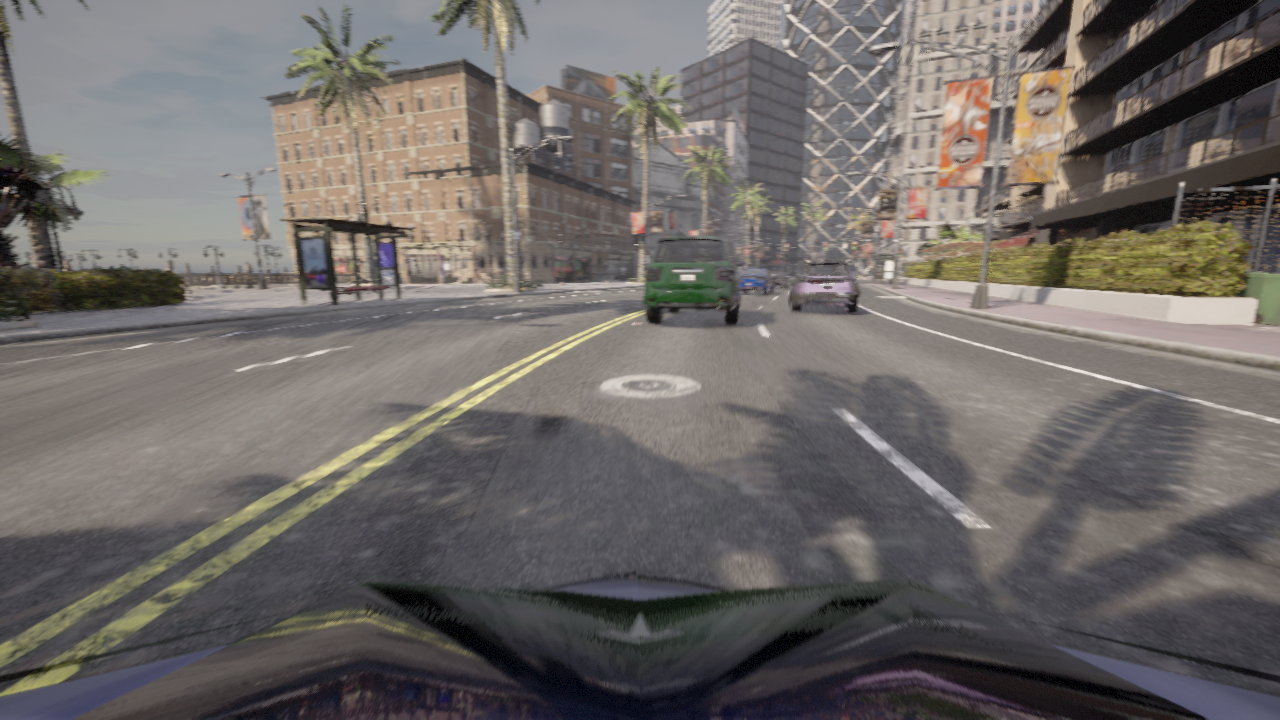cyclist: (0, 569, 1279, 719), (644, 236, 745, 325), (788, 259, 858, 313), (740, 268, 774, 294), (768, 271, 788, 288), (188, 287, 190, 296)
